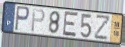5: (80, 12, 94, 39)
8: (48, 10, 62, 35)
E: (62, 11, 79, 38)
P: (13, 5, 30, 33), (30, 8, 46, 34)
Z: (94, 15, 112, 41)
